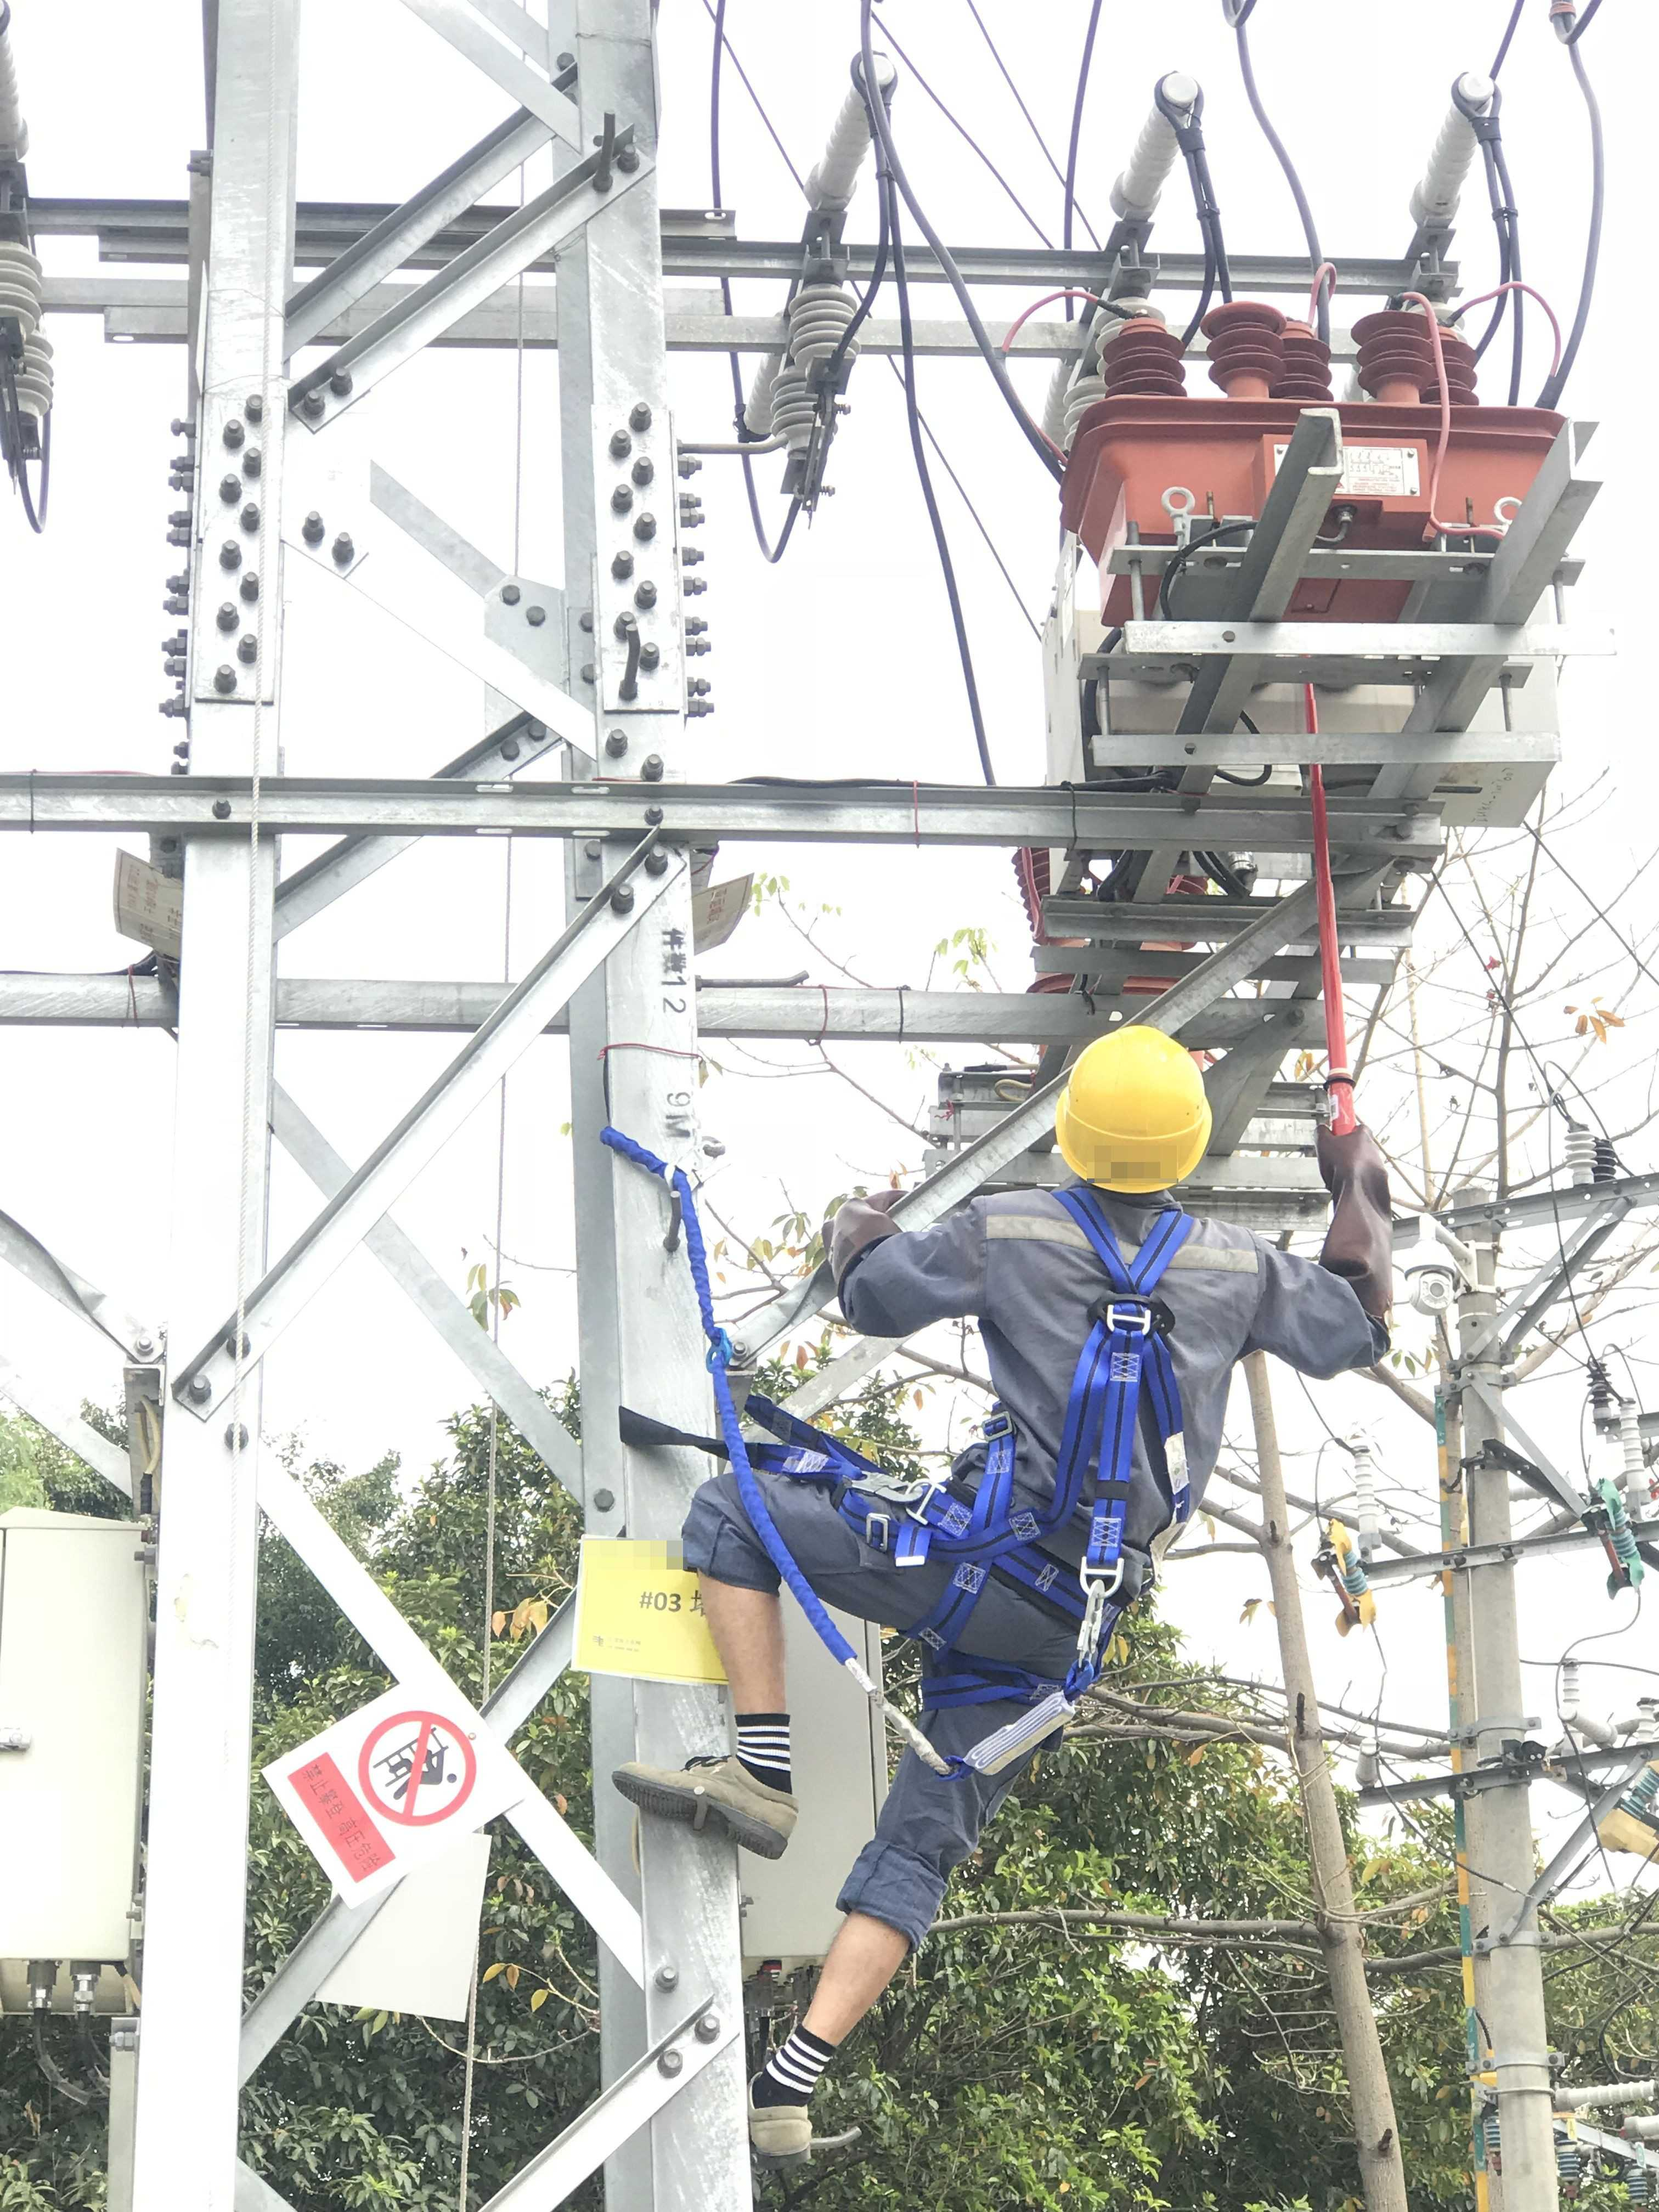downsuit: (676, 1467, 1129, 1947)
upsuit: (861, 1184, 1366, 1548)
wrongbottom: (777, 1850, 957, 2092), (674, 1494, 821, 1757)
